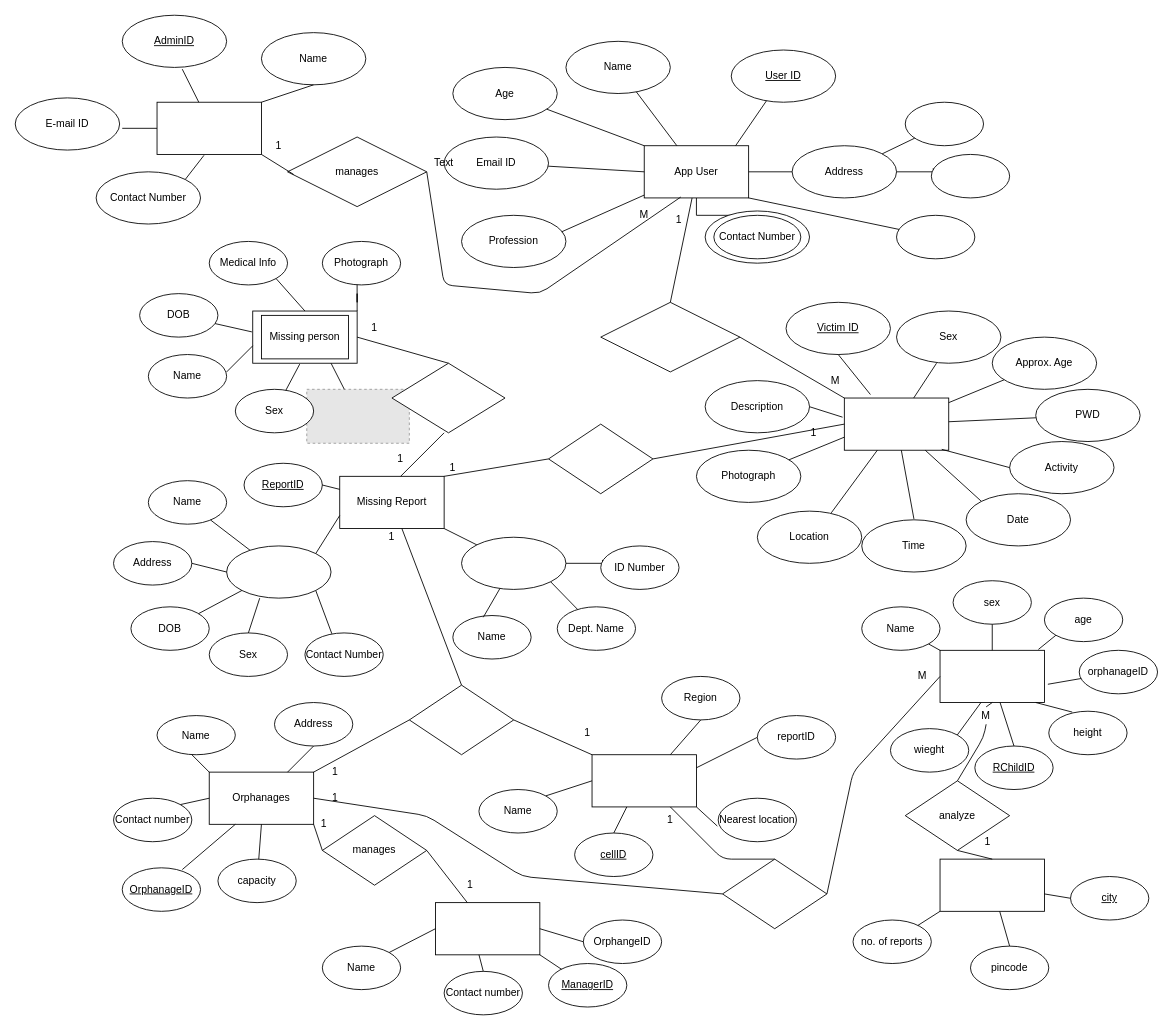
Some shapes in this 1173 by 1030 pixel diagram are drawn without their labels. Grey dashed boxes stand in for pictures. Each missing label, with the centre of its shape:
Administrator: the point at 208,127
Building: the point at 944,123
Complainant: the point at 278,571
Contacts: the point at 461,719
Contains: the point at 448,397
Crime investigation cell: the point at 643,780
Matches: the point at 600,458
Orphanage Manager: the point at 487,928
Pin code: the point at 935,236
Police Officer: the point at 513,562
Reports: the point at 670,336
Rescued Child: the point at 991,676
Statistics: the point at 991,884
Stores: the point at 774,893
Street: the point at 970,176
Victim: the point at 896,423
